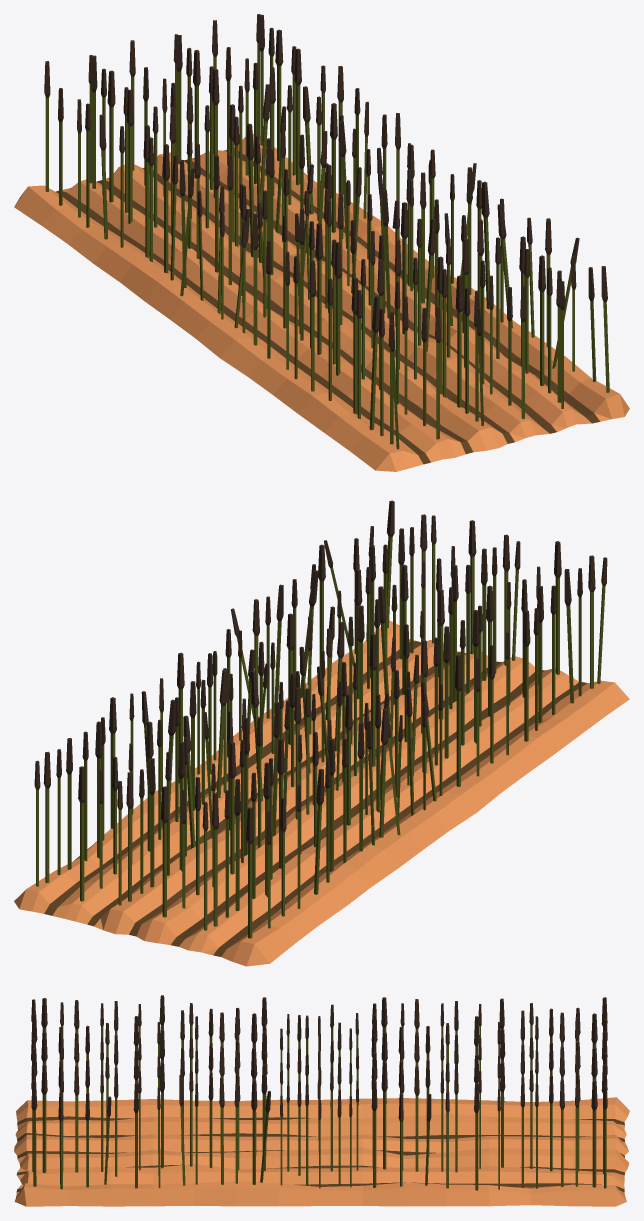
Rendered from Field_P_M.fbx.
The picture shows the model from 3 angles, top to bottom: view 1: azimuth 30°, elevation 25°; view 2: azimuth 150°, elevation 25°; view 3: azimuth 270°, elevation 25°; orthographic projection. The views are drawn at different scales.
Parts seen in each view (by area): view 1: Field_Wheat_M.001; view 2: Field_Wheat_M.001; view 3: Field_Wheat_M.001.
Part boxes in pixels (bbox=[...]): Field_Wheat_M.001: bbox=[14, 14, 629, 471]; Field_Wheat_M.001: bbox=[14, 500, 629, 966]; Field_Wheat_M.001: bbox=[14, 995, 629, 1206].
Size of the model in its own units: 5.25 by 2.84 by 13.38.
